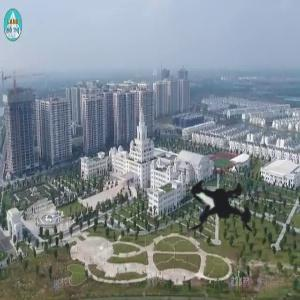drone: (151, 127, 299, 275)
